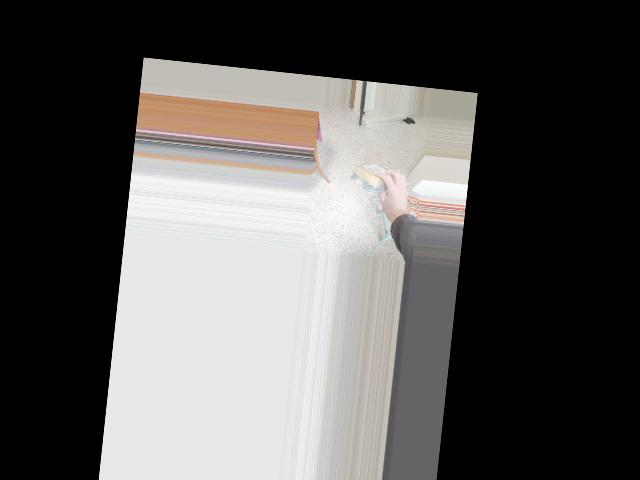cheese: (348, 158, 404, 196)
